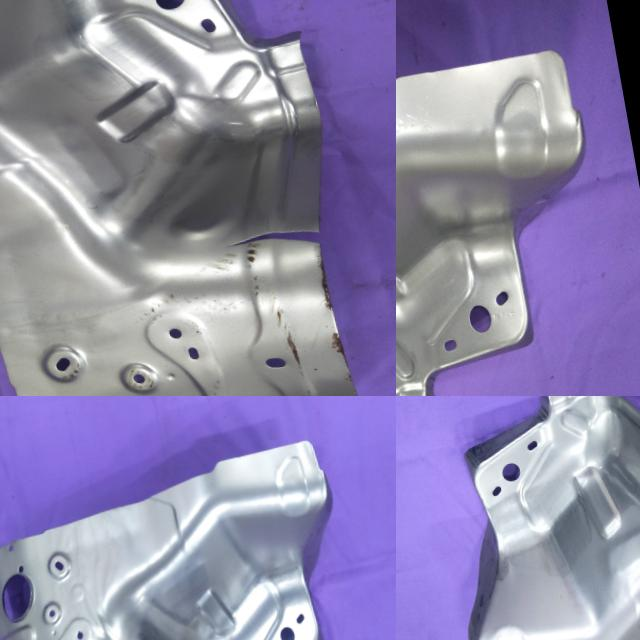Defect: (207, 202, 345, 278), (608, 396, 640, 421)
Healthy: (396, 43, 631, 396)
